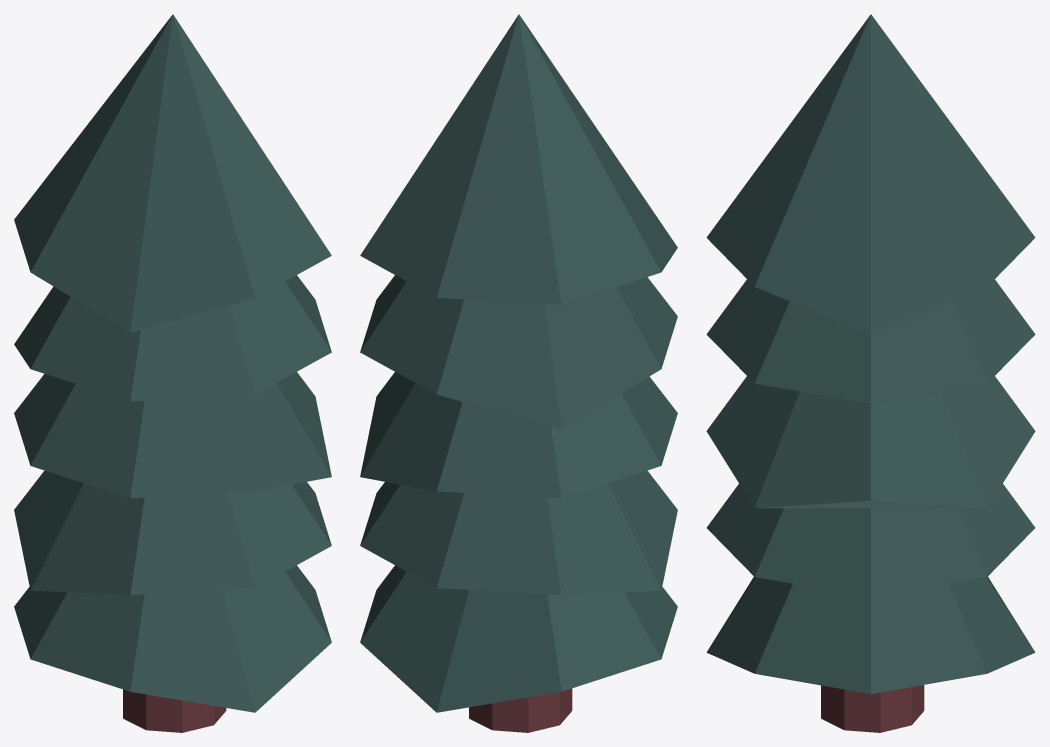
File: pine 2-1.gltf
The picture shows the model from 3 angles, left to right: view 1: azimuth 30°, elevation 25°; view 2: azimuth 150°, elevation 25°; view 3: azimuth 270°, elevation 25°; orthographic projection.
Visible parts, largest first — view 1: Cone.055, Cone.059, Cone.058, Cone.057, Cone.056, Cylinder.013; view 2: Cone.055, Cone.056, Cone.059, Cone.058, Cone.057, Cylinder.013; view 3: Cone.055, Cone.057, Cone.059, Cone.056, Cone.058, Cylinder.013.
Boxes of the visible parts, box(x1,y1,x2,y2) form: Cone.055: box(14, 14, 331, 332); Cone.059: box(14, 565, 331, 712); Cone.058: box(14, 470, 331, 594); Cone.057: box(14, 372, 331, 498); Cone.056: box(14, 275, 331, 401); Cylinder.013: box(123, 689, 226, 732); Cone.055: box(360, 14, 677, 304); Cone.056: box(360, 275, 677, 429); Cone.059: box(360, 565, 677, 712); Cone.058: box(360, 470, 677, 594); Cone.057: box(360, 372, 677, 498); Cylinder.013: box(469, 688, 572, 732); Cone.055: box(706, 14, 1035, 334); Cone.057: box(706, 376, 1035, 508); Cone.059: box(706, 577, 1035, 693); Cone.056: box(706, 279, 1035, 403); Cone.058: box(706, 484, 1035, 597); Cylinder.013: box(821, 685, 924, 732).
Size of the model in its own units: 6.17 by 14.41 by 6.17.
1 material, 1 textured.
